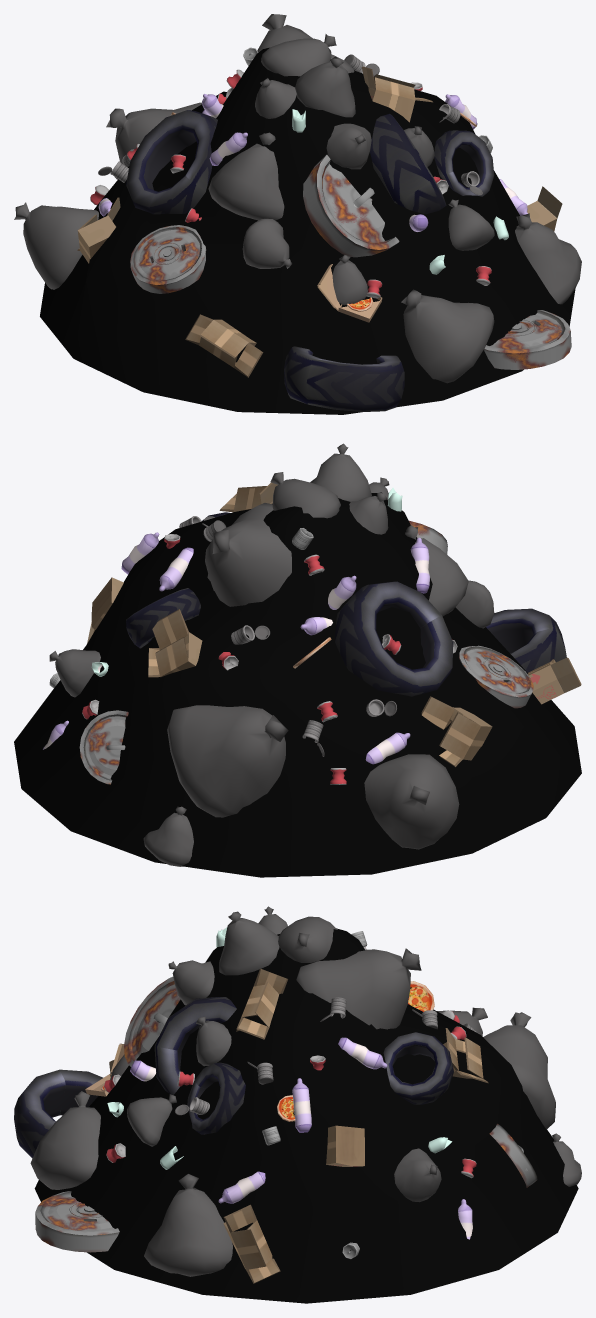
File: Lixao1.fbx
3 renders of one model, top to bottom at view 1: azimuth 30°, elevation 25°; view 2: azimuth 150°, elevation 25°; view 3: azimuth 270°, elevation 25°, orthographic. The views are drawn at different scales.
Visible parts, largest first — view 1: Lixao1; view 2: Lixao1; view 3: Lixao1.
Part boxes in pixels (x1,y1,x2,y2): Lixao1: (14, 14, 581, 414); Lixao1: (14, 443, 581, 877); Lixao1: (14, 906, 581, 1303).
Bounding box in the file's own units: 7.93 × 7.6 × 4.32.
